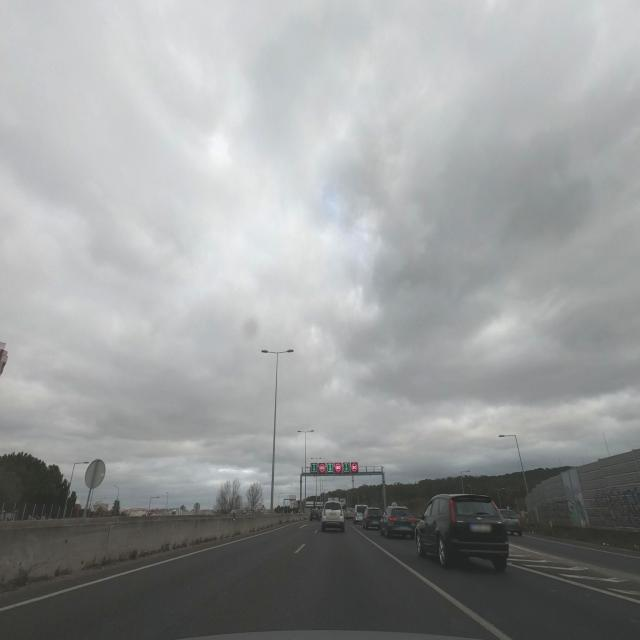car: (416, 492, 510, 572), (380, 505, 416, 539), (320, 500, 346, 532), (498, 509, 522, 536), (363, 506, 383, 530), (353, 504, 369, 524), (309, 507, 321, 521), (344, 507, 355, 521)
